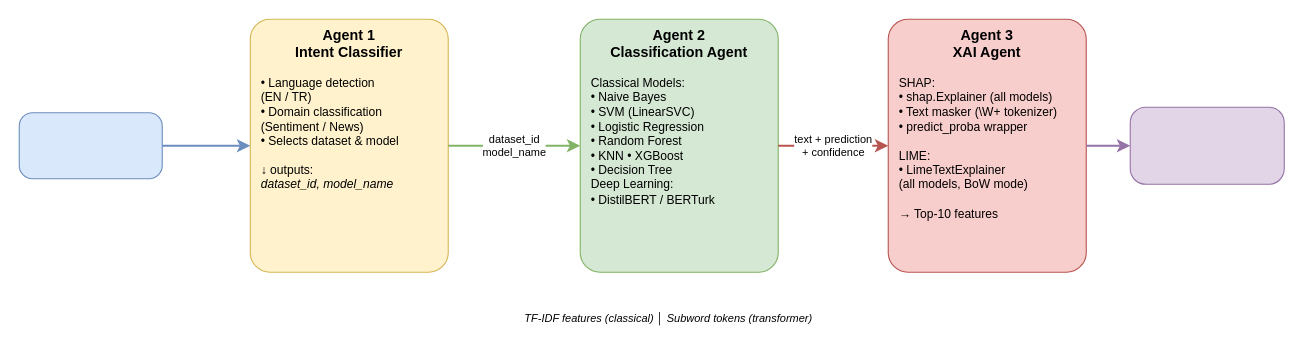
This 1304x347 diagram has some shape labels left out. Here are the shapes that lost their labels. From the top down, the centre of each, then its label:
At (90,145): "User Input Raw Text".
At (1206,145): "Output Label + Confidence + Explanation".
